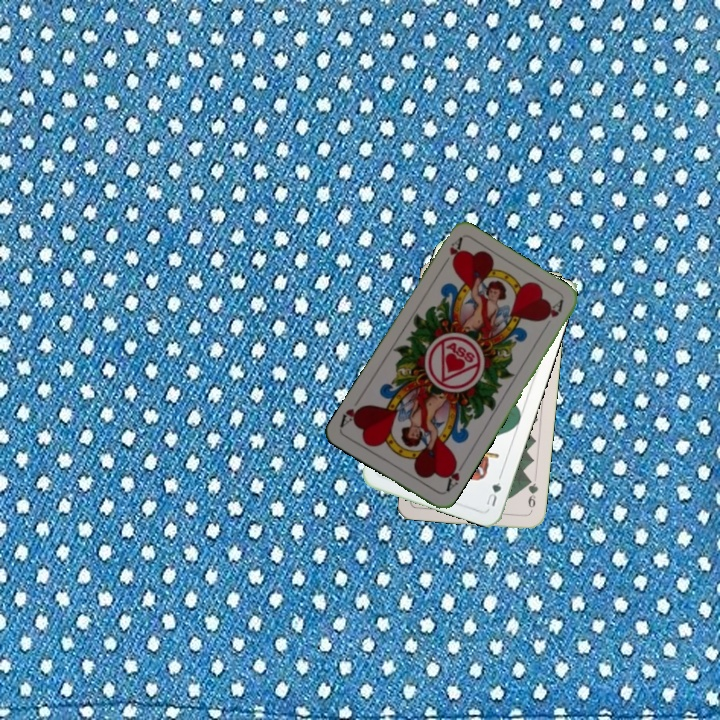G9: (524, 474, 541, 510)
GU: (482, 472, 504, 509)
HA: (437, 234, 465, 271), (441, 457, 462, 495)
